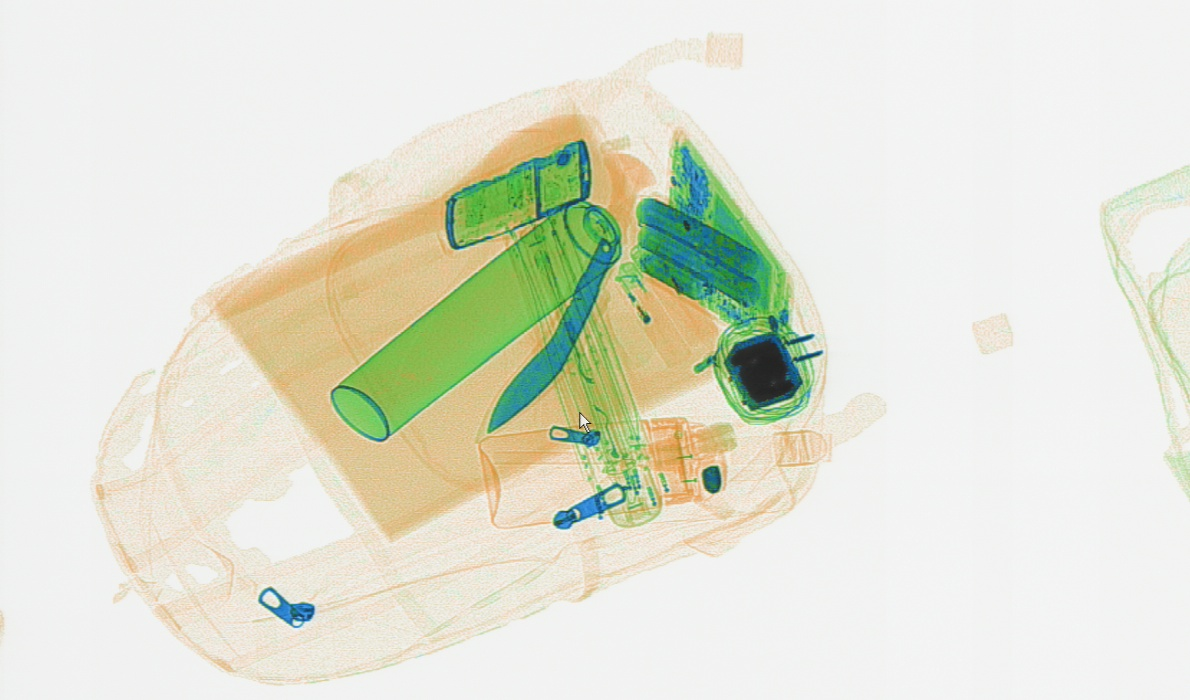knife: (474, 149, 657, 432)
lighter: (612, 257, 710, 390)
powerbank: (631, 192, 792, 342)
pressure: (329, 197, 622, 442)
